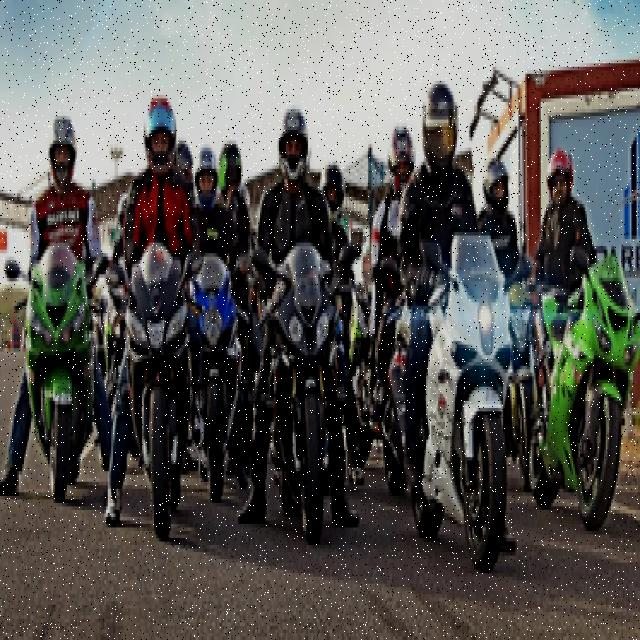not_triplets: (0, 84, 116, 509), (245, 105, 350, 528), (394, 76, 484, 547), (122, 84, 196, 524)
with-helmet: (419, 77, 459, 169), (140, 88, 178, 169), (276, 106, 312, 180), (44, 112, 78, 186), (542, 144, 576, 204), (481, 151, 512, 211), (195, 144, 221, 215)
